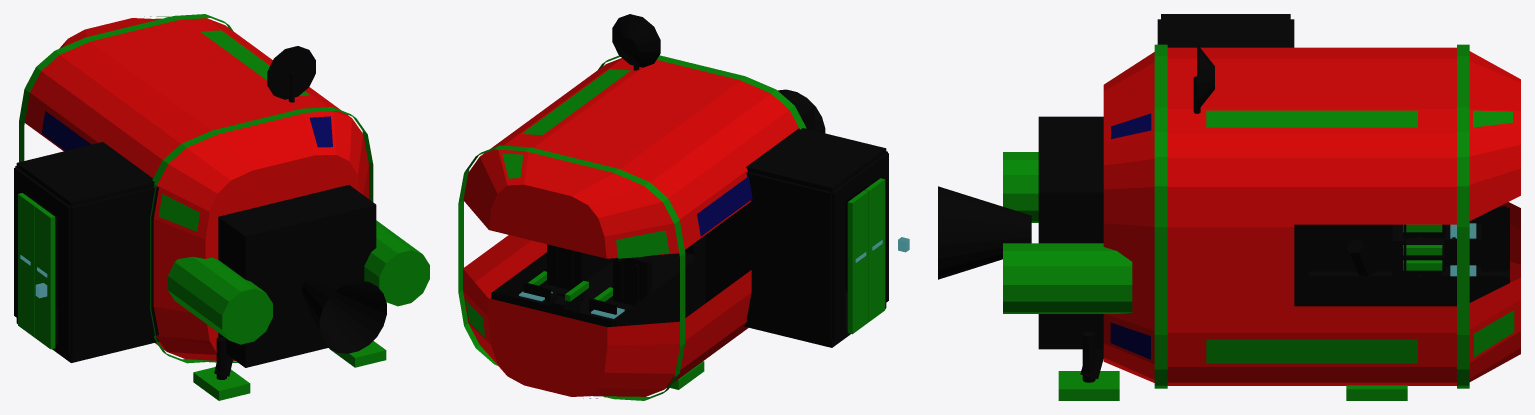
File: firefly.glb
3 views of the same model, side by side, from view 1: azimuth 30°, elevation 25°; view 2: azimuth 150°, elevation 25°; view 3: azimuth 270°, elevation 25° (orthographic). The views are drawn at different scales.
Parts seen in each view (by area): view 1: pioneer_firefly:pressure_hull_0, pioneer_firefly:drive_pack, pioneer_firefly:room_eva, pioneer_firefly:ceiling_eva, pioneer_firefly:engine_0, pioneer_firefly:habitat_seams_1, pioneer_firefly:inspection_panels_0, pioneer_firefly:door_eva-outer_1, pioneer_firefly:door_eva-outer_-1, pioneer_firefly:gear_2, pioneer_firefly:gear_3; view 2: pioneer_firefly:pressure_hull_0, pioneer_firefly:room_eva, pioneer_firefly:room_bridge, pioneer_firefly:ceiling_eva, pioneer_firefly:inspection_panels_0, pioneer_firefly:habitat_seams_1, pioneer_firefly:door_eva-outer_-1, pioneer_firefly:door_eva-outer_1, pioneer_firefly:drive_pack, pioneer_firefly:seat_1, pioneer_firefly:seat_0, pioneer_firefly:finish_bridge (+2 smaller); view 3: pioneer_firefly:pressure_hull_0, pioneer_firefly:drive_pack, pioneer_firefly:room_bridge, pioneer_firefly:inspection_panels_0, pioneer_firefly:habitat_seams_1, pioneer_firefly:engine_0, pioneer_firefly:ceiling_eva, pioneer_firefly:gear_3, pioneer_firefly:seat_0, pioneer_firefly:seat_1, pioneer_firefly:gear_1, pioneer_firefly:gear_mounts (+1 smaller).
Part boxes in pixels (x1,y1,x2,y2): pioneer_firefly:pressure_hull_0: (25, 18, 368, 361); pioneer_firefly:drive_pack: (168, 46, 429, 367); pioneer_firefly:room_eva: (14, 166, 159, 362); pioneer_firefly:ceiling_eva: (16, 142, 154, 206); pioneer_firefly:engine_0: (301, 275, 386, 353); pioneer_firefly:habitat_seams_1: (19, 14, 373, 363); pioneer_firefly:inspection_panels_0: (41, 16, 332, 362); pioneer_firefly:door_eva-outer_1: (34, 205, 55, 349); pioneer_firefly:door_eva-outer_-1: (18, 193, 38, 336); pioneer_firefly:gear_2: (193, 337, 250, 400); pioneer_firefly:gear_3: (329, 341, 386, 367); pioneer_firefly:pressure_hull_0: (463, 58, 798, 396); pioneer_firefly:room_eva: (705, 151, 888, 347); pioneer_firefly:room_bridge: (491, 235, 705, 327); pioneer_firefly:ceiling_eva: (746, 128, 886, 192); pioneer_firefly:inspection_panels_0: (465, 69, 752, 398); pioneer_firefly:habitat_seams_1: (458, 55, 806, 400); pioneer_firefly:door_eva-outer_-1: (847, 190, 868, 334); pioneer_firefly:door_eva-outer_1: (864, 178, 885, 321); pioneer_firefly:drive_pack: (612, 14, 814, 130); pioneer_firefly:seat_1: (528, 244, 588, 312); pioneer_firefly:seat_0: (594, 257, 651, 309); pioneer_firefly:finish_bridge: (523, 282, 616, 314); pioneer_firefly:pressure_hull_0: (1103, 47, 1520, 385); pioneer_firefly:drive_pack: (1003, 44, 1214, 349); pioneer_firefly:room_bridge: (1294, 206, 1509, 306); pioneer_firefly:inspection_panels_0: (1110, 110, 1514, 363); pioneer_firefly:habitat_seams_1: (1154, 44, 1469, 388); pioneer_firefly:engine_0: (938, 186, 1031, 279); pioneer_firefly:ceiling_eva: (1161, 14, 1290, 47); pioneer_firefly:gear_3: (1058, 332, 1119, 400); pioneer_firefly:seat_0: (1403, 224, 1444, 276); pioneer_firefly:seat_1: (1392, 224, 1442, 276); pioneer_firefly:gear_1: (1346, 385, 1407, 400); pioneer_firefly:gear_mounts: (1080, 240, 1375, 379).
Bounding box in the file's own units: 6.25 × 5.09 × 8.1.
